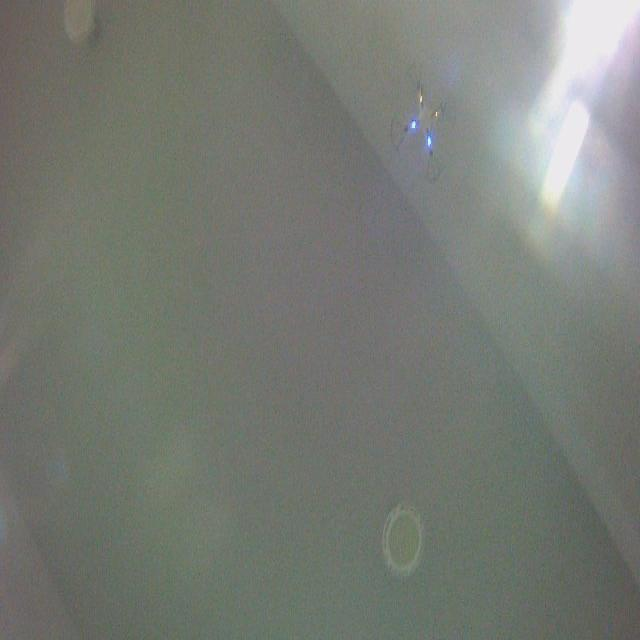drone: (388, 60, 458, 183)
